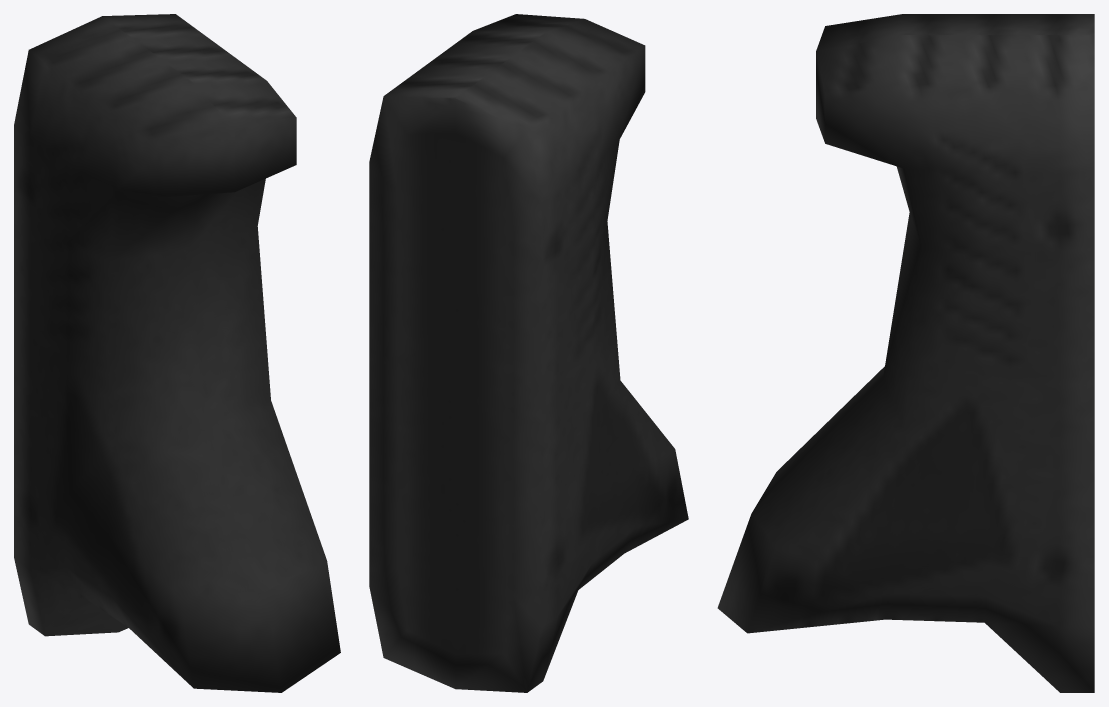
File: TLOG_ForwardGrip.fbx
The picture shows the model from 3 angles, left to right: view 1: azimuth 30°, elevation 25°; view 2: azimuth 150°, elevation 25°; view 3: azimuth 270°, elevation 25°; orthographic projection. The views are drawn at different scales.
Visible parts, largest first — view 1: Cube; view 2: Cube; view 3: Cube.
Part boxes in pixels (left/top/right/bottom): Cube: left=14, top=14, right=340, bottom=692; Cube: left=369, top=14, right=688, bottom=692; Cube: left=717, top=14, right=1094, bottom=692.
Size of the model in its own units: 0.0174 by 0.057 by 0.0306.
